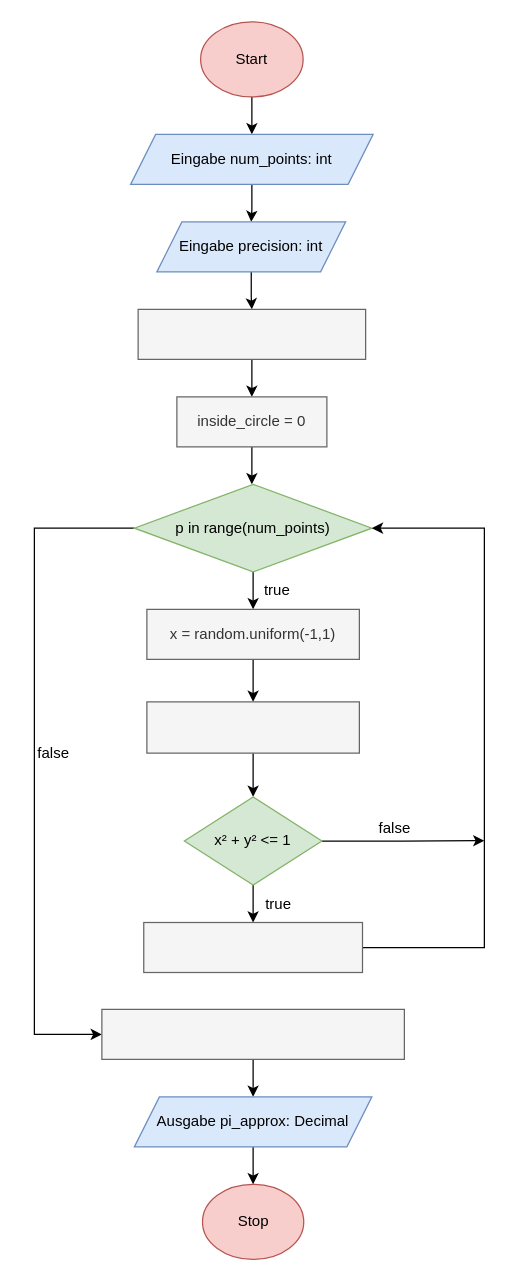
Image size: 516x1281. Some labels were removed from this diagram. The centre of each missing label's shape, as x and y in pixels:
getcontext().prec = precision: point 251,333
inside_circle = inside_circle +1: point 252,946
pi_approx = (inside_circle/num_points) *4: point 252,1033
y = random.uniform(-1,1): point 252,727
